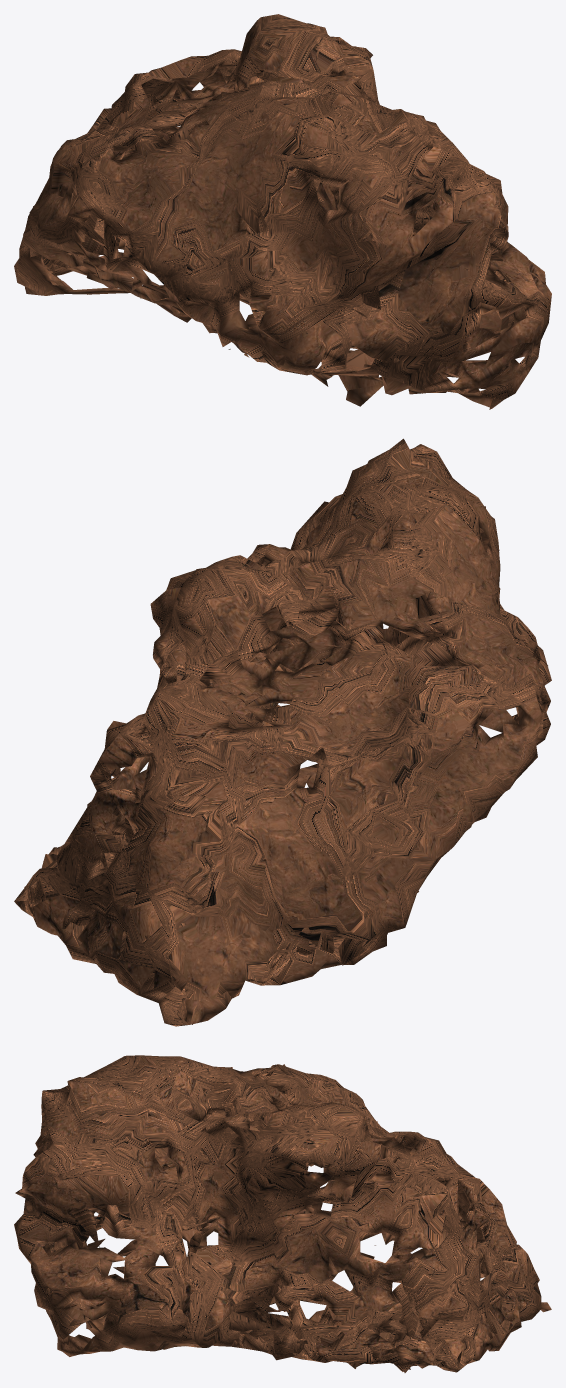
File: scanned_boulder.glb
3 views of the same model, one above another, from view 1: azimuth 30°, elevation 25°; view 2: azimuth 150°, elevation 25°; view 3: azimuth 270°, elevation 25° (orthographic). The views are drawn at different scales.
Visible parts, largest first — view 1: boulder_01; view 2: boulder_01; view 3: boulder_01.
Part boxes in pixels (x1,y1,x2,y2): boulder_01: (14, 14, 551, 409); boulder_01: (14, 438, 551, 1026); boulder_01: (14, 1055, 551, 1372).
Size of the model in its own units: 1.27 by 1.03 by 1.83.
1 material, 1 textured.
